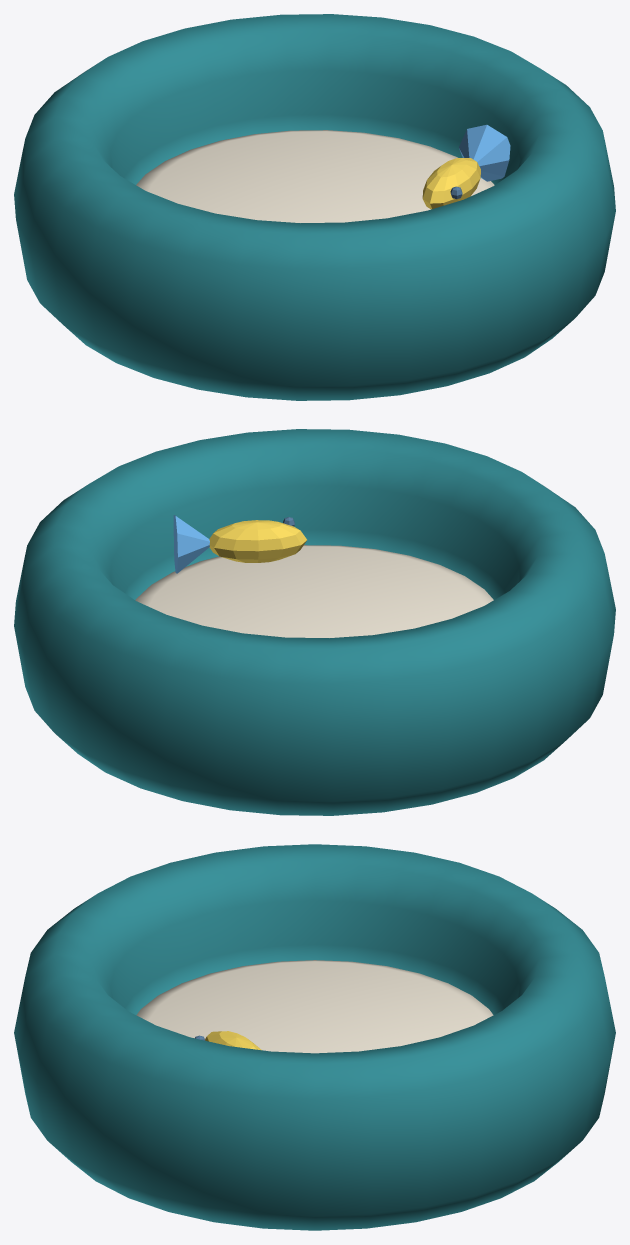
File: cat_bed.glb
3 views of the same model, one above another, from view 1: azimuth 30°, elevation 25°; view 2: azimuth 150°, elevation 25°; view 3: azimuth 270°, elevation 25° (orthographic).
Visible parts, largest first — view 1: cat_bed; view 2: cat_bed; view 3: cat_bed.
Boxes of the visible parts, x1,y1,x2,y2 form: cat_bed: (14,14,615,400); cat_bed: (14,429,615,815); cat_bed: (14,844,615,1230).
Size of the model in its own units: 0.67 by 0.2025 by 0.67.
